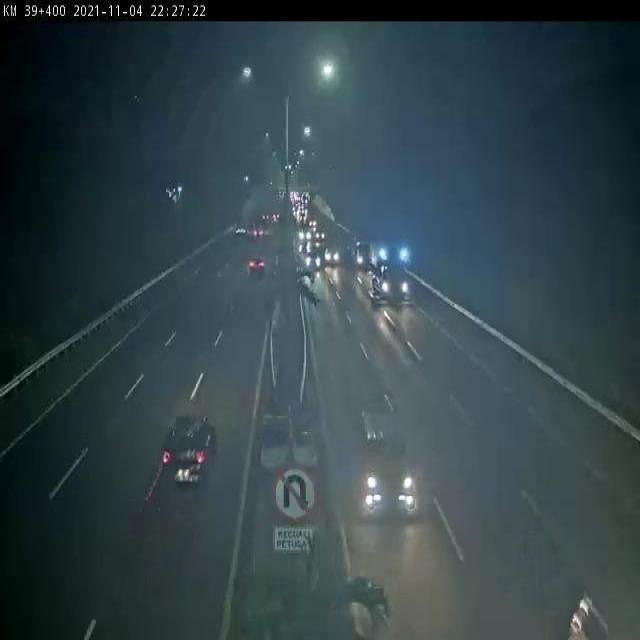car: (356, 408, 416, 519), (161, 415, 217, 484), (248, 254, 268, 274)
truck-m-: (370, 235, 411, 302)
